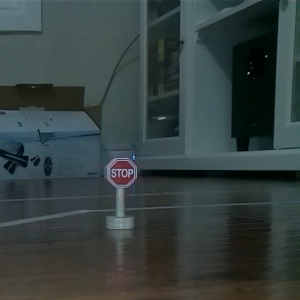stop sign: (101, 155, 139, 231)
